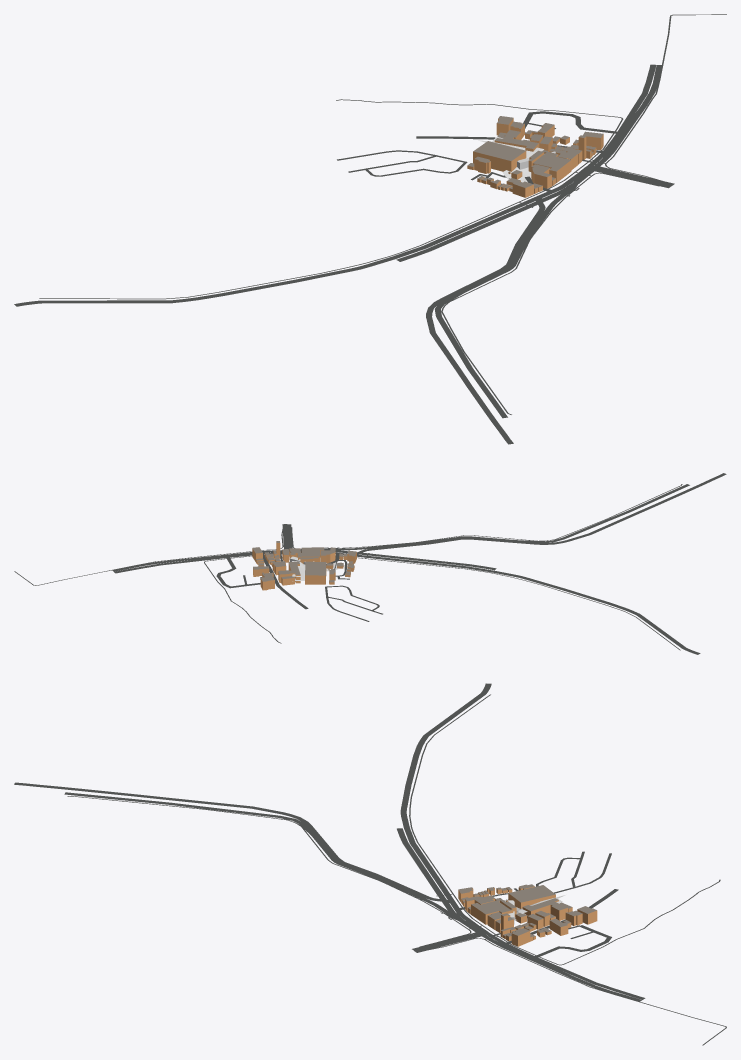
File: sundaimichi.fbx
3 views of the same model, one above another, from view 1: azimuth 30°, elevation 25°; view 2: azimuth 150°, elevation 25°; view 3: azimuth 270°, elevation 25° (orthographic). The views are drawn at different scales.
Visible parts, largest first — view 1: map_3.osm_roads_secondary, map_3.osm_roads_primary, map_3.osm_paths_footway, map_3.osm_buildings.057, map_3.osm_roads_service; view 2: map_3.osm_roads_secondary, map_3.osm_roads_primary, map_3.osm_paths_footway, map_3.osm_buildings.057, map_3.osm_roads_service; view 3: map_3.osm_roads_secondary, map_3.osm_roads_primary, map_3.osm_paths_footway, map_3.osm_buildings.057.
Part boxes in pixels (x1,y1,x2,y2): map_3.osm_roads_secondary: [426, 64, 662, 444]; map_3.osm_roads_primary: [14, 165, 674, 306]; map_3.osm_paths_footway: [39, 14, 726, 414]; map_3.osm_buildings.057: [473, 141, 526, 171]; map_3.osm_roads_service: [337, 122, 594, 184]; map_3.osm_roads_secondary: [112, 473, 726, 573]; map_3.osm_roads_primary: [282, 524, 700, 654]; map_3.osm_paths_footway: [14, 484, 682, 650]; map_3.osm_buildings.057: [305, 561, 326, 584]; map_3.osm_roads_service: [243, 553, 382, 621]; map_3.osm_roads_secondary: [14, 782, 645, 1001]; map_3.osm_roads_primary: [397, 683, 491, 952]; map_3.osm_paths_footway: [67, 694, 726, 1045]; map_3.osm_buildings.057: [508, 885, 555, 908].
Size of the model in its own units: 126119 by 4453 by 104967.
